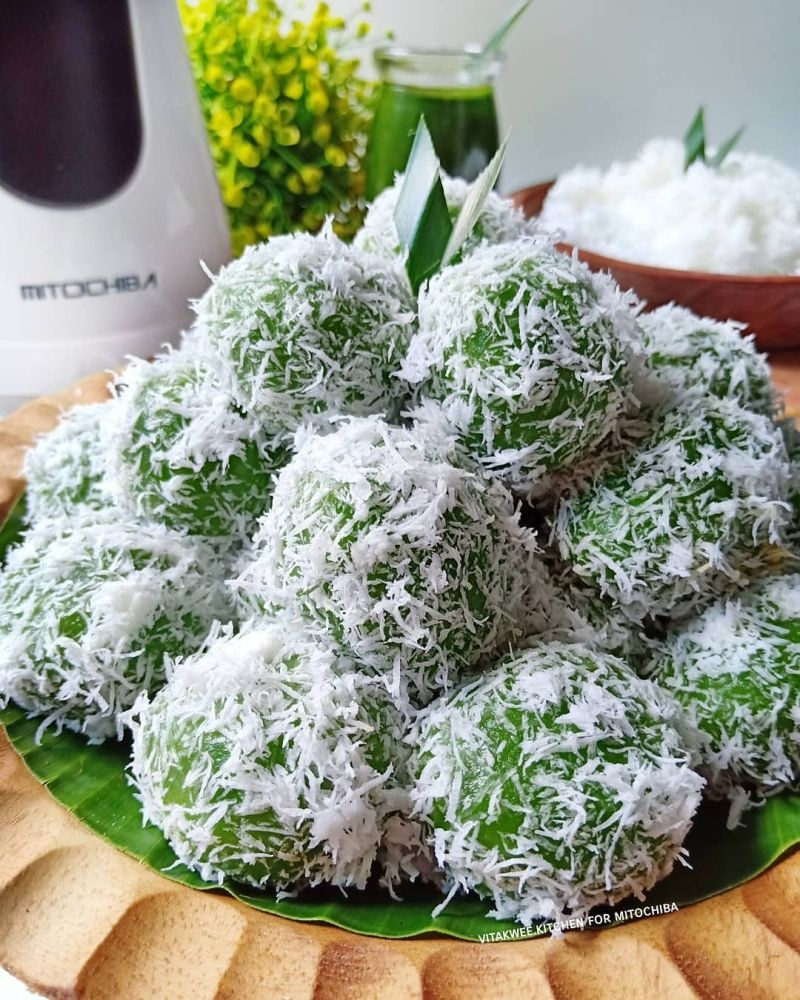klepon: (398, 638, 711, 949), (119, 606, 392, 910), (378, 244, 649, 501)
